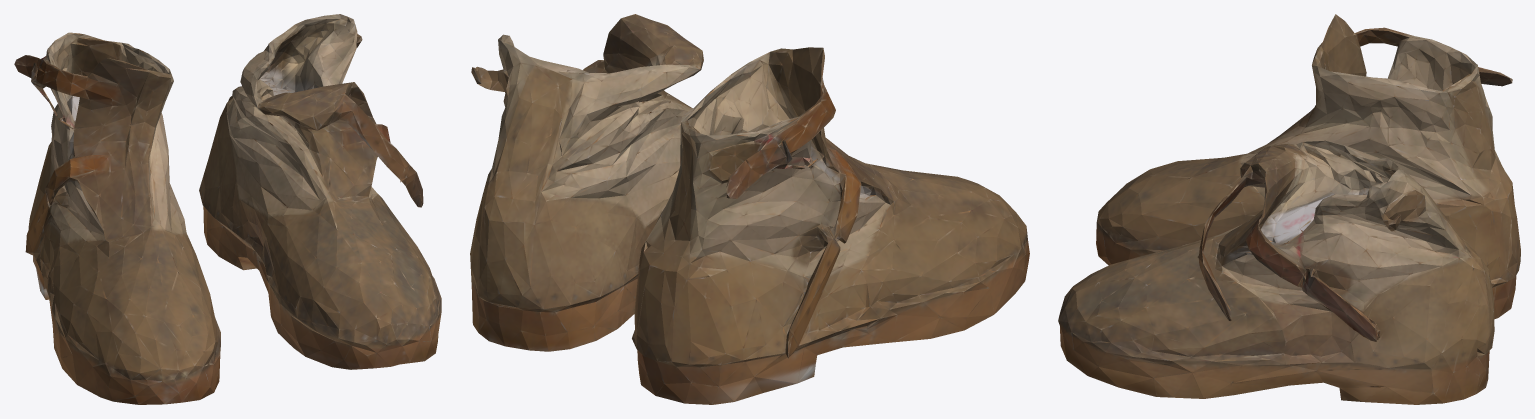
The picture shows the model from 3 angles, left to right: view 1: azimuth 30°, elevation 25°; view 2: azimuth 150°, elevation 25°; view 3: azimuth 270°, elevation 25°; orthographic projection. The views are drawn at different scales.
Visible parts, largest first — view 1: Schuhe_3k_1k; view 2: Schuhe_3k_1k; view 3: Schuhe_3k_1k.
Boxes of the visible parts, <box> form: Schuhe_3k_1k: <box>14,14,441,404</box>; Schuhe_3k_1k: <box>470,14,1029,404</box>; Schuhe_3k_1k: <box>1058,14,1520,404</box>.
Size of the model in its own units: 0.2809 by 0.1884 by 0.2976.
1 material, 1 textured.
